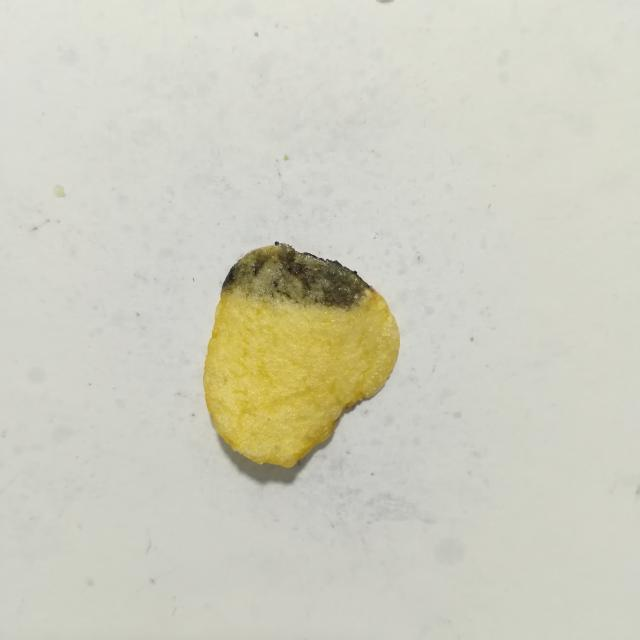chip: (203, 242, 400, 467)
semi-damaged: (222, 243, 371, 308)
